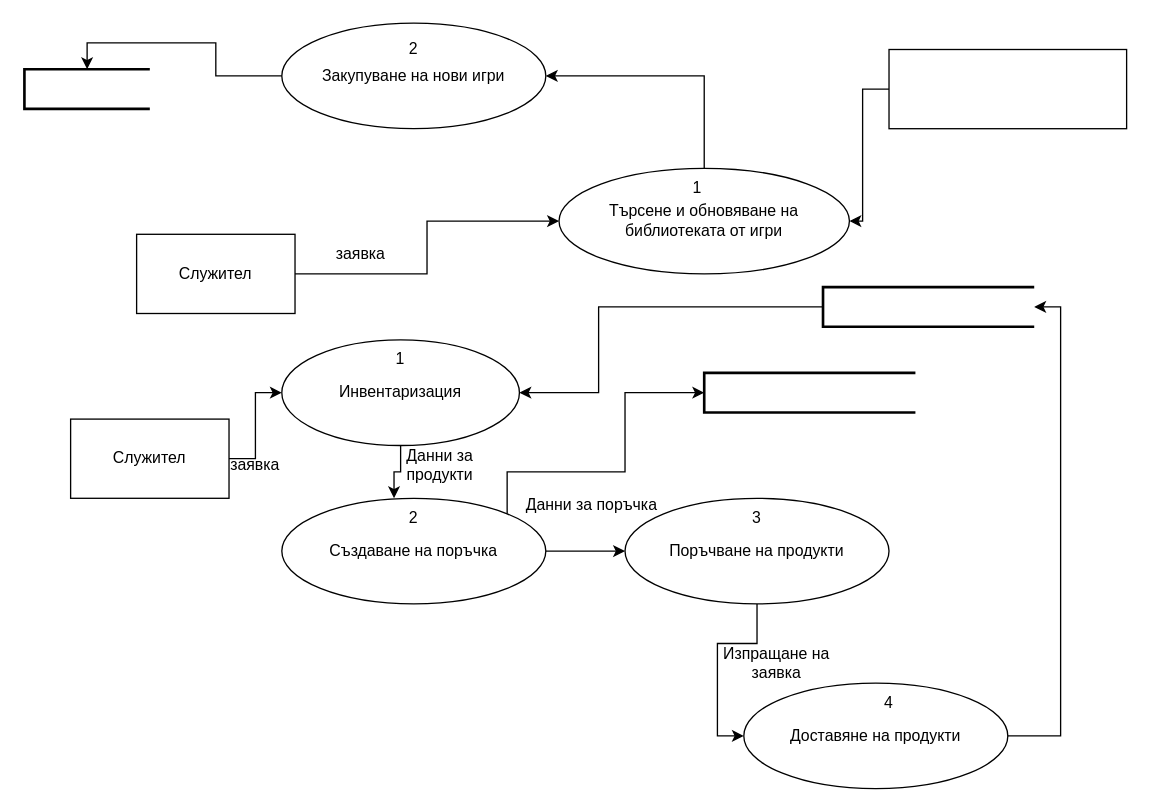
Image size: 1150x812. Some labels were removed from this diagram. Each missing label, with the centre of its shape:
"Данни за игри" belongs at (86,88).
"Данни за поръчки" belongs at (809,392).
"Данни за храни/напитки" belongs at (928,306).
"магазин/склад за игри" belongs at (1007,88).
